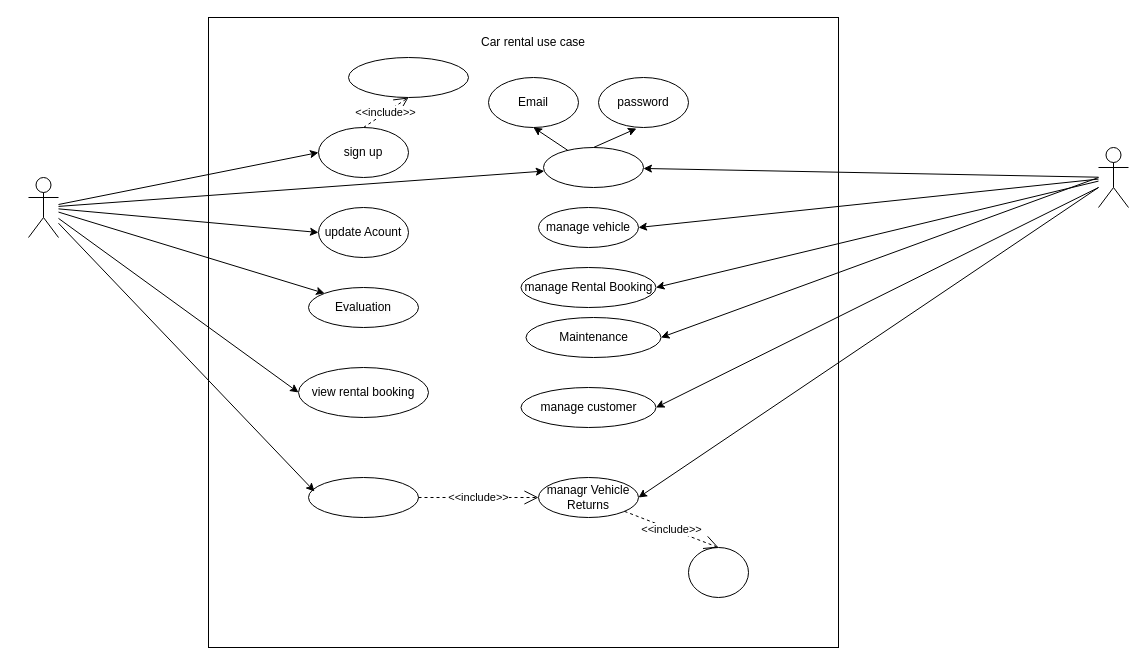
The diagram is 1147 pixels wide and 665 high, and some of its shapes have lost their labels. Each missing label, with the centre of its shape:
admin: (x=1113, y=177)
Customer: (x=43, y=207)
customer data: (x=408, y=77)
Login: (x=593, y=167)
payment: (x=718, y=572)
Return vehicle: (x=363, y=497)
